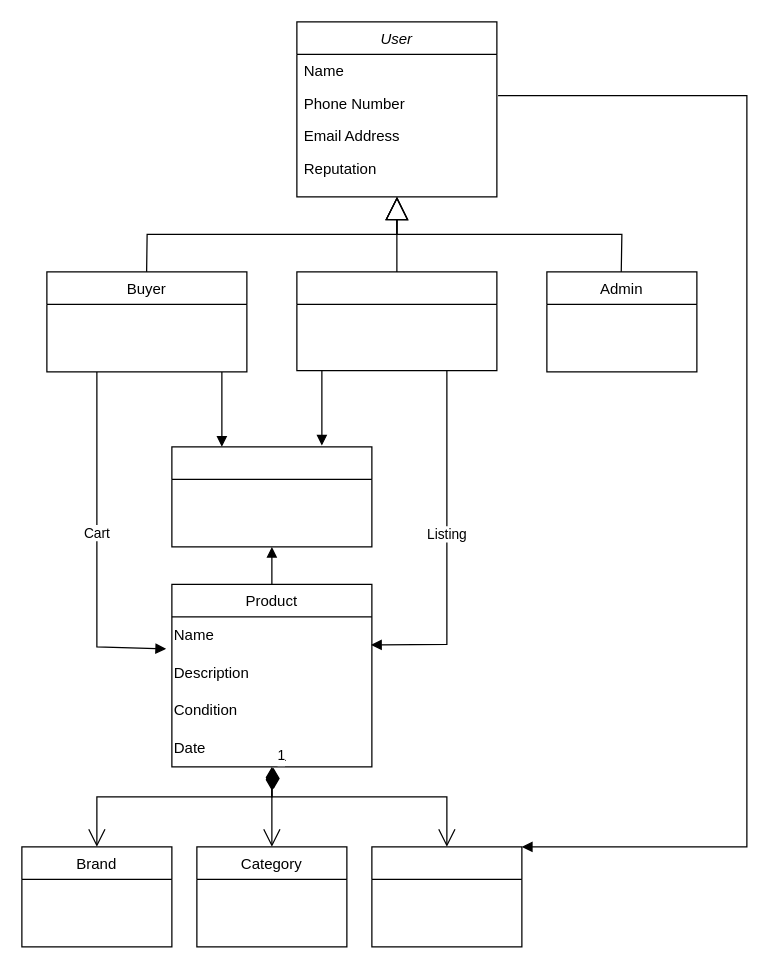
This 779x969 diagram has some shape labels left out. Here are the shapes that lost their labels. From the top down, the centre of each, then its label:
At (396,321): "Seller".
At (271,496): "Chat".
At (446,896): "Location".
